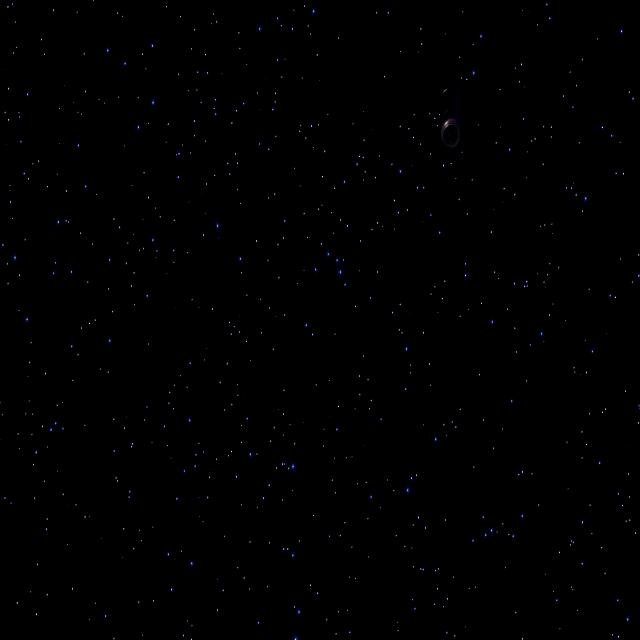large_debris: (436, 70, 462, 150)
